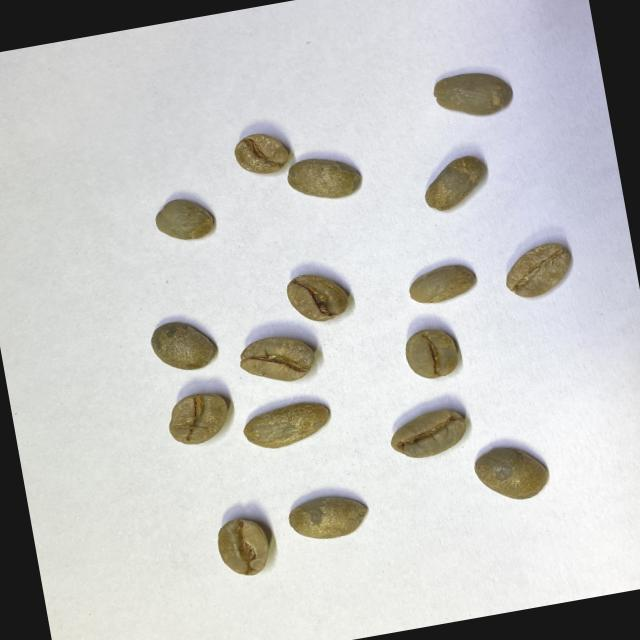bad: (236, 330, 319, 390), (282, 266, 352, 328), (213, 512, 275, 581)
good: (471, 438, 552, 508), (240, 397, 335, 454), (429, 64, 516, 124), (285, 487, 372, 546), (385, 403, 472, 462), (500, 238, 579, 302), (418, 153, 492, 216), (147, 313, 219, 377), (284, 150, 364, 207), (164, 388, 234, 449), (401, 322, 464, 383), (404, 260, 480, 308), (152, 192, 218, 246), (232, 128, 292, 180)
